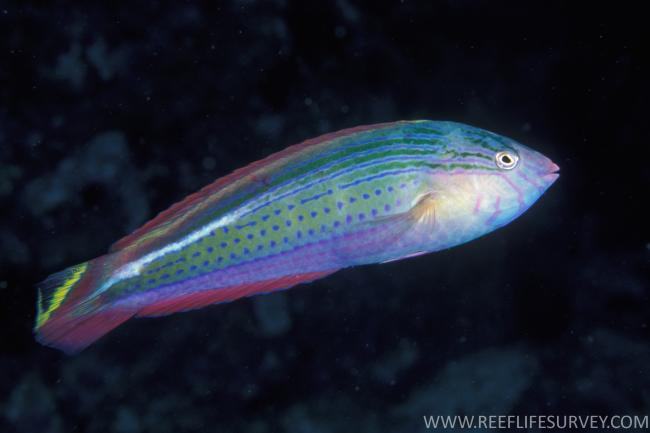fish: (32, 120, 559, 355)
